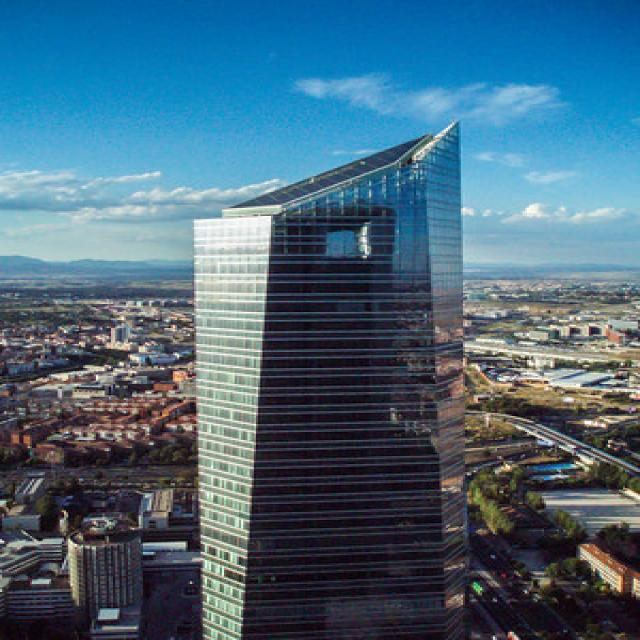building: (176, 115, 479, 640)
